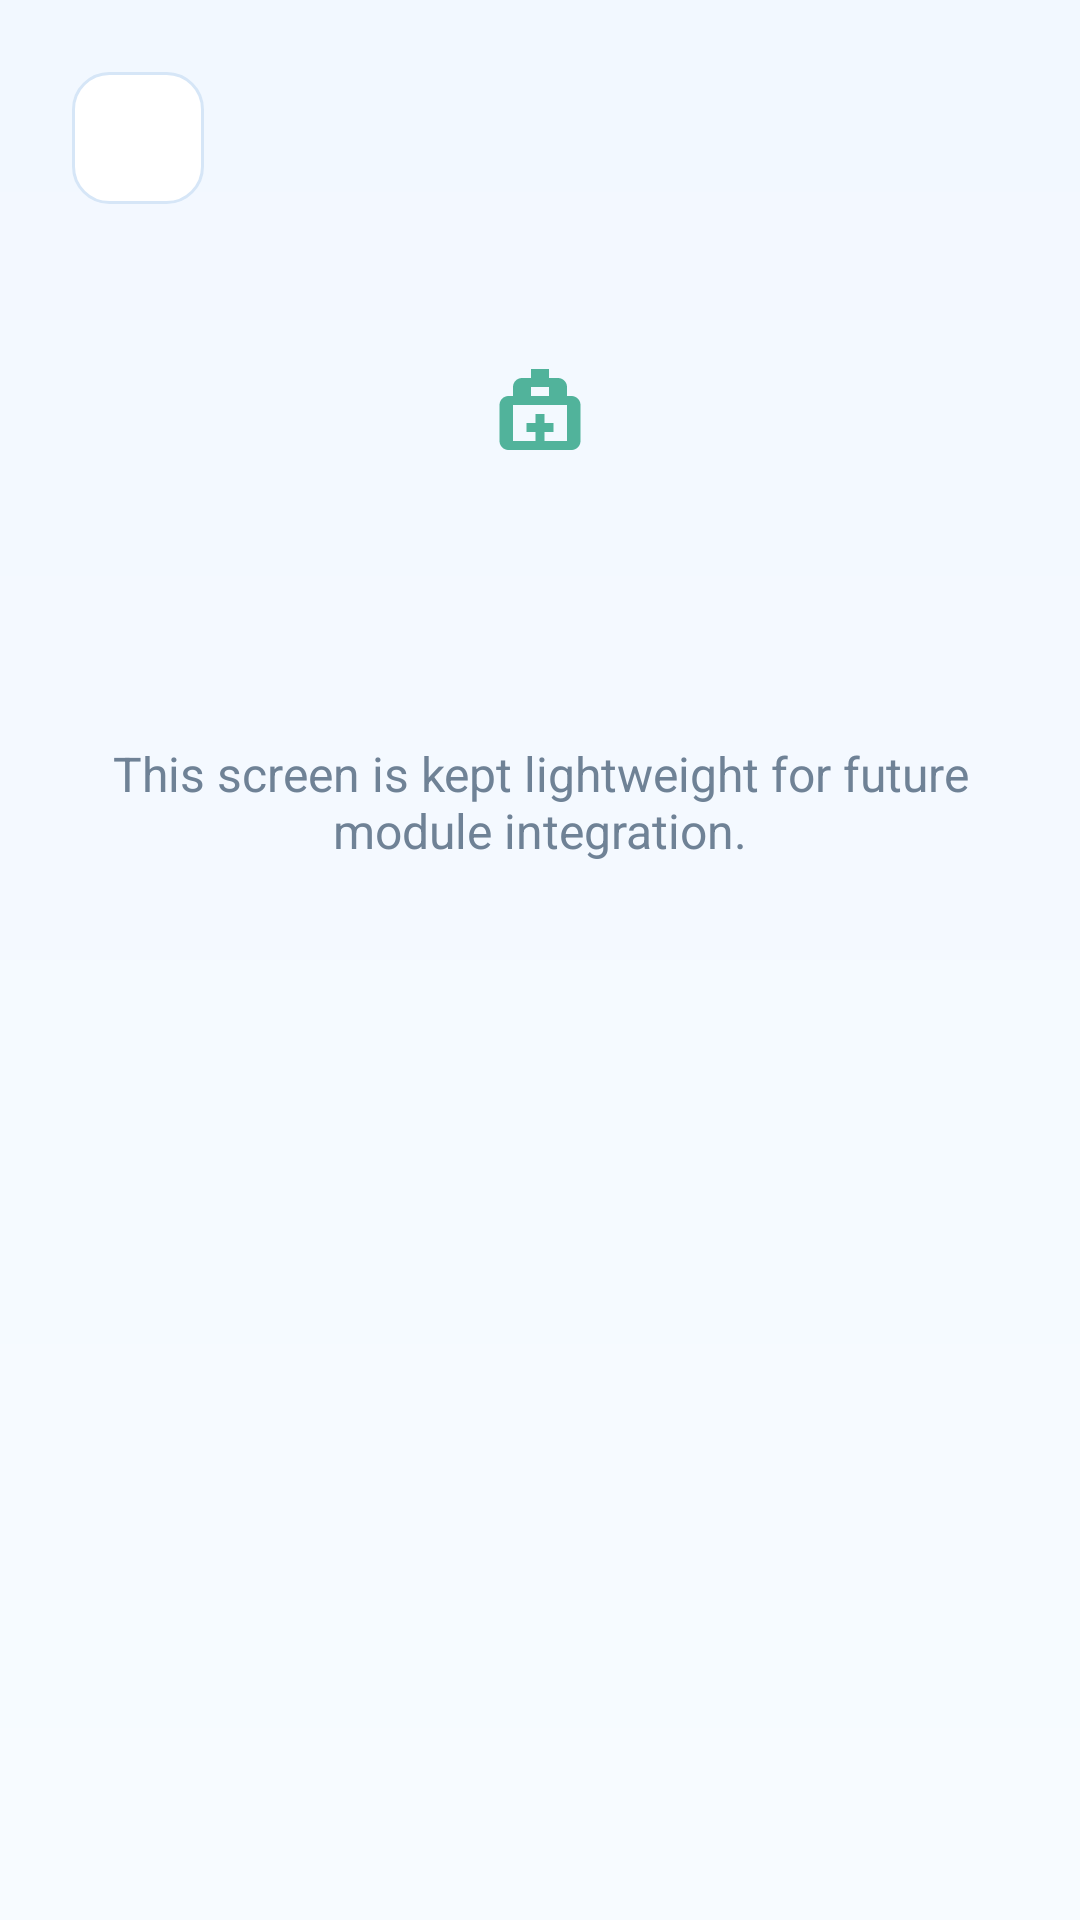

Named icons in this screenshot (1080x1920) and their bounding boxes, (x1, y1, x2, y2):
medical services: (499, 369, 581, 450)
